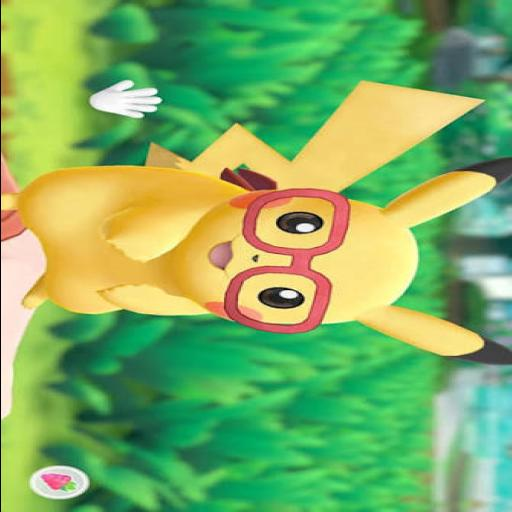Pikachu: (0, 82, 512, 364)
